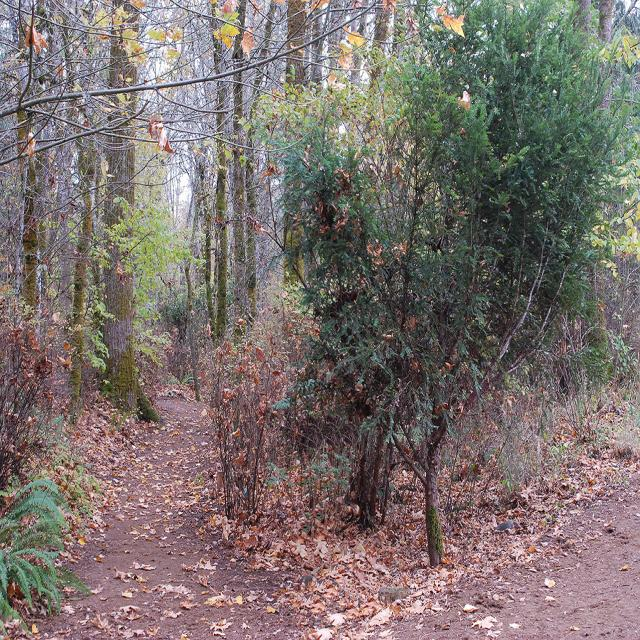Taxus brevifolia: (243, 44, 534, 584)
